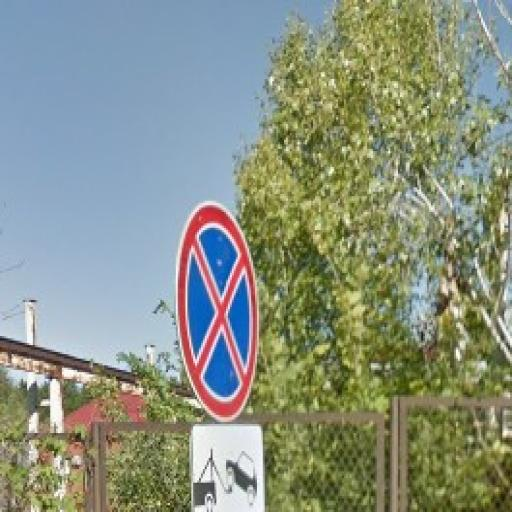traffic_sign: (175, 202, 260, 425)
